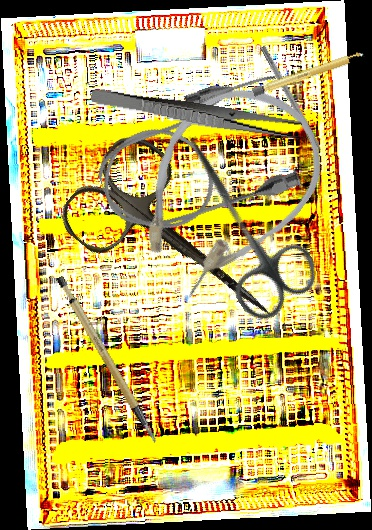Cannula: (101, 59, 347, 321), (82, 64, 314, 250)
Dressing Forceps: (89, 86, 303, 142)
Hook Surgical: (258, 45, 331, 167)
Iris Scissors: (52, 125, 308, 365), (150, 115, 328, 328)
Scalpel Handle: (52, 265, 159, 456), (251, 50, 366, 97)
